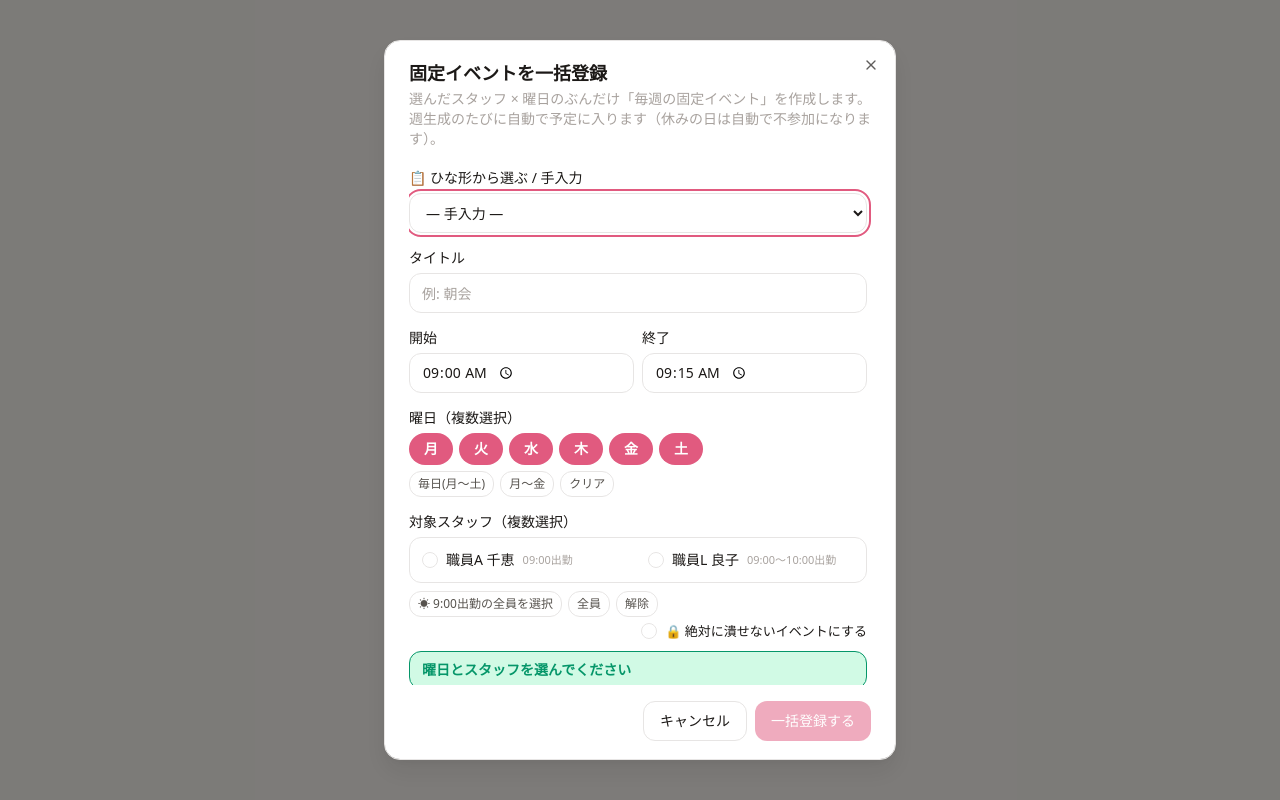
Test: BulkEventDefaultsDialog — 送信 › 3b. タイトル空 / スタッフ未選択では送信できない
Expected: the button with test id "bulk-submit" is disabled, top-left (755, 701), bottom-right (871, 741)
In the field labelled "タイトル": (638, 293) top-left (409, 273), bottom-right (867, 313), type "朝会"
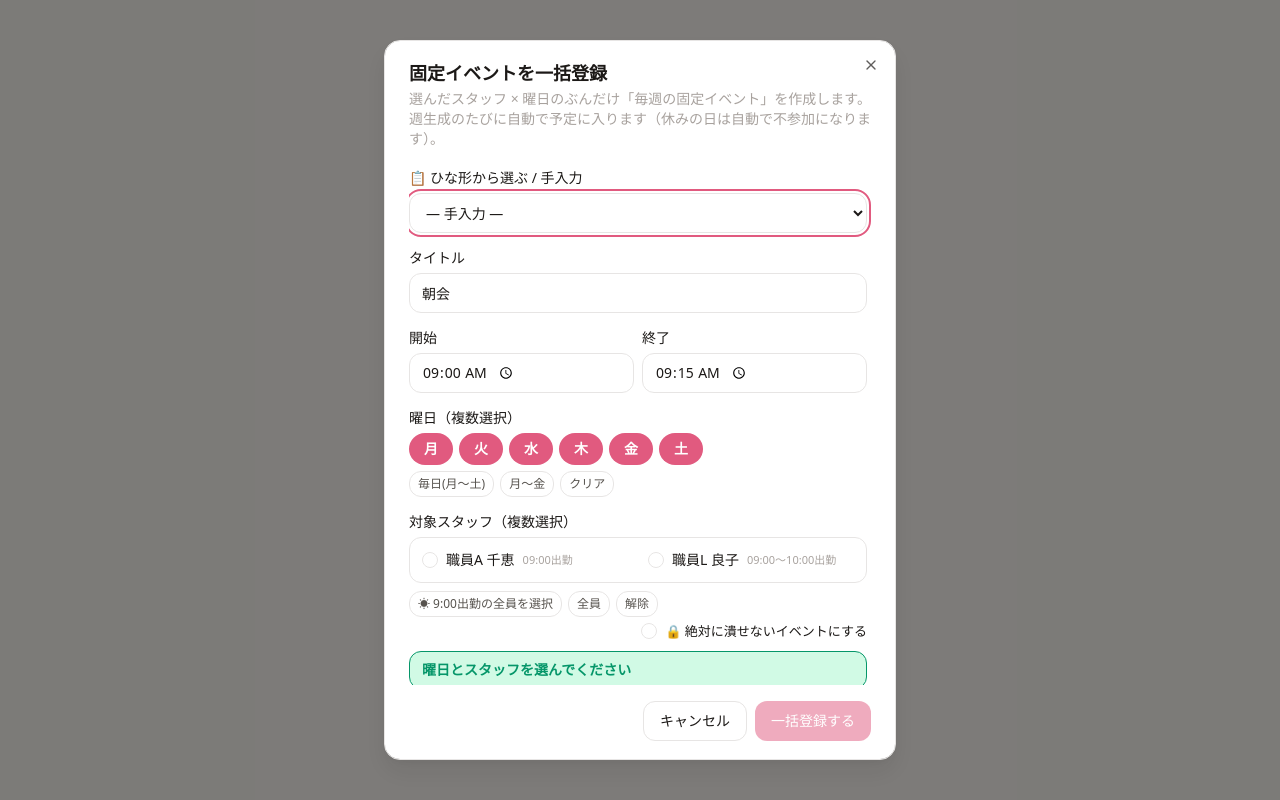
Expected: the button with test id "bulk-submit" is disabled, top-left (755, 701), bottom-right (871, 741)
Click the button with test id "bulk-select-all": (589, 604) top-left (568, 591), bottom-right (610, 617)
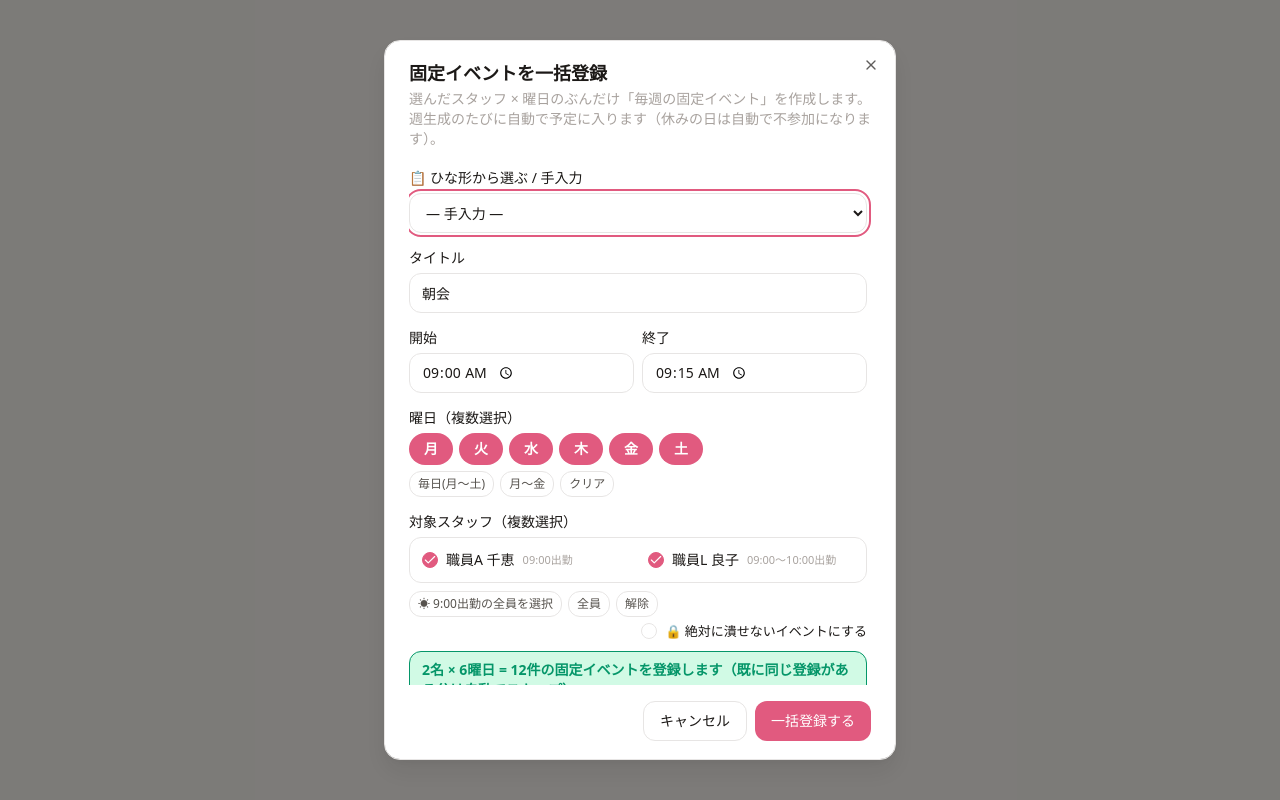
Expected: the button with test id "bulk-submit" is enabled, top-left (755, 701), bottom-right (871, 741)
